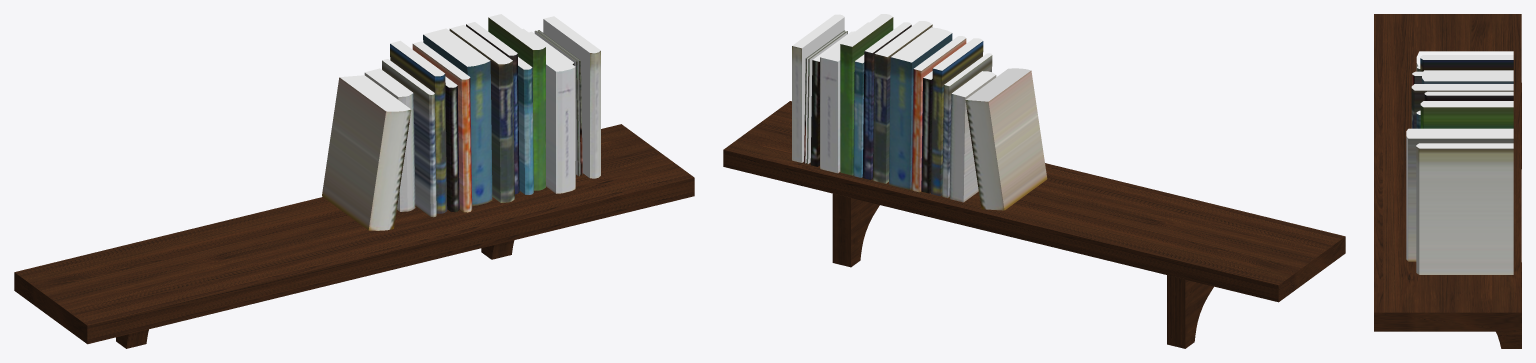
Rendered from Shelf 1.FBX.
The picture shows the model from 3 angles, left to right: view 1: azimuth 30°, elevation 25°; view 2: azimuth 150°, elevation 25°; view 3: azimuth 270°, elevation 25°; orthographic projection. The views are drawn at different scales.
Visible parts, largest first — view 1: shelf 1, books; view 2: shelf 1, books; view 3: shelf 1, books.
Boxes of the visible parts, x1=… form: shelf 1: x1=14, y1=124, x2=694, y2=348; books: x1=322, y1=14, x2=600, y2=230; shelf 1: x1=723, y1=101, x2=1345, y2=348; books: x1=792, y1=14, x2=1047, y2=210; shelf 1: x1=1374, y1=14, x2=1521, y2=348; books: x1=1406, y1=51, x2=1513, y2=274.
Bounding box in the file's own units: 127 × 47.38 × 26.5.
2 materials, 2 textured.
